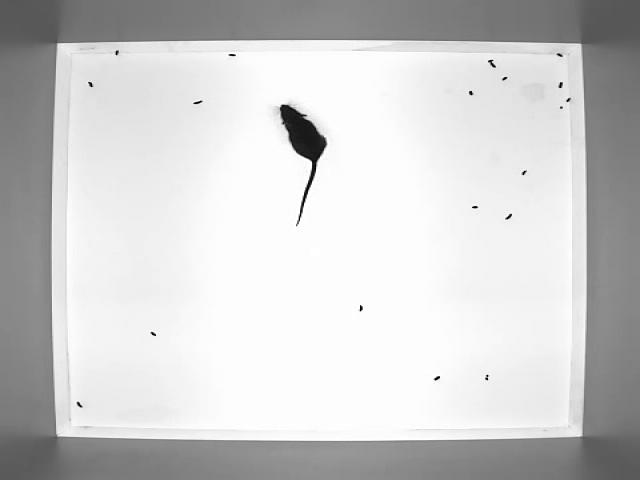Tikus: (275, 98, 337, 232)
